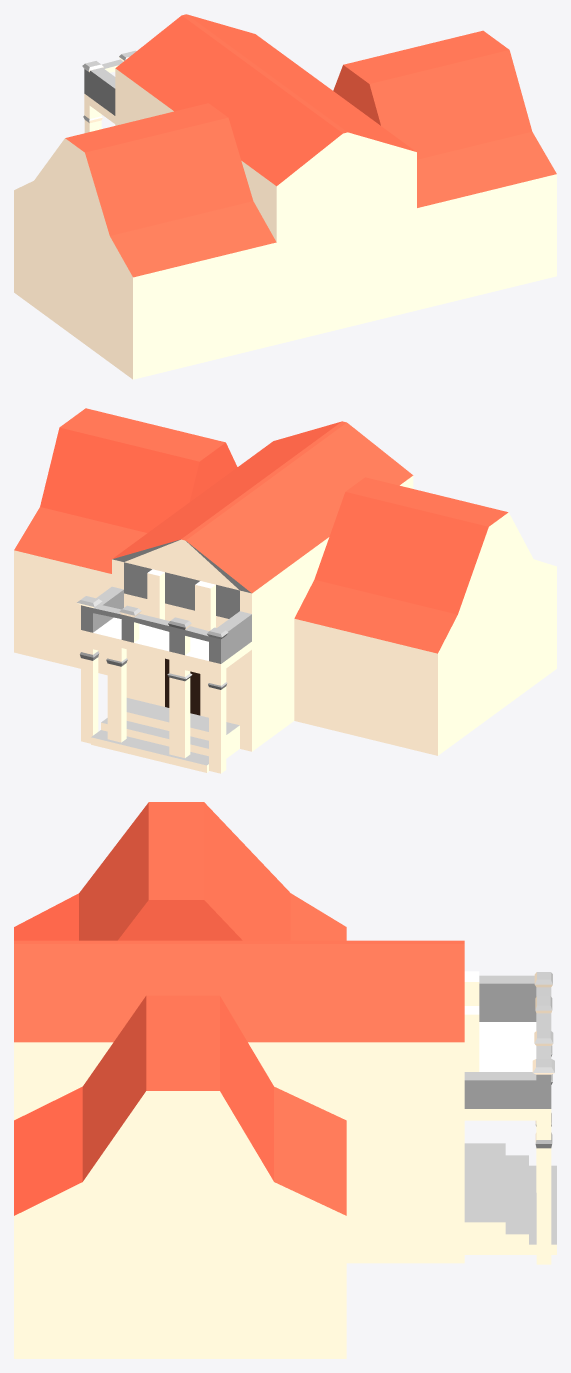
Rendered from muzeum.fbx.
3 renders of one model, top to bottom at view 1: azimuth 30°, elevation 25°; view 2: azimuth 150°, elevation 25°; view 3: azimuth 270°, elevation 25°, orthographic. The views are drawn at different scales.
Visible parts, largest first — view 1: Cube; view 2: Cube; view 3: Cube.
Boxes of the visible parts, left/top/right/bottom form: Cube: left=14, top=14, right=556, bottom=379; Cube: left=14, top=408, right=556, bottom=773; Cube: left=14, top=802, right=556, bottom=1358.
Bounding box in the file's own units: 858 × 379 × 681.
